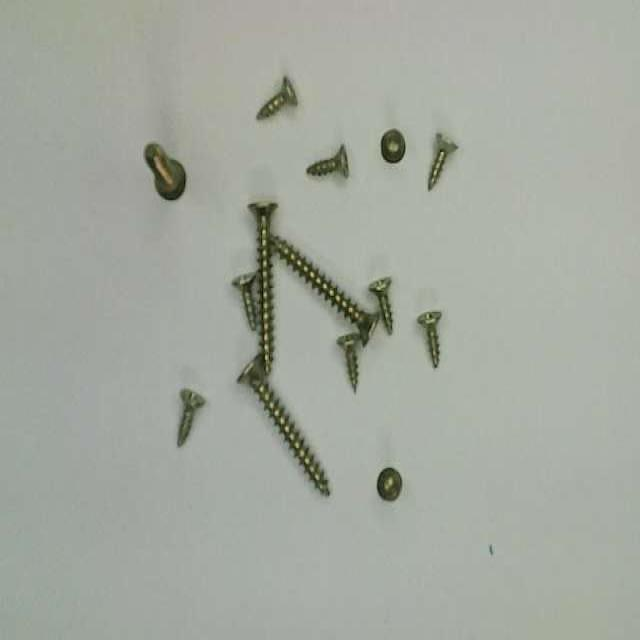Parafuso: (238, 357, 329, 493), (270, 233, 377, 344), (249, 203, 277, 372), (145, 143, 185, 199), (256, 76, 297, 119), (428, 132, 457, 189), (178, 391, 205, 445), (336, 333, 359, 392), (233, 272, 256, 329), (418, 311, 441, 367), (369, 277, 392, 333), (307, 145, 348, 175), (377, 468, 401, 500), (381, 129, 405, 161)
